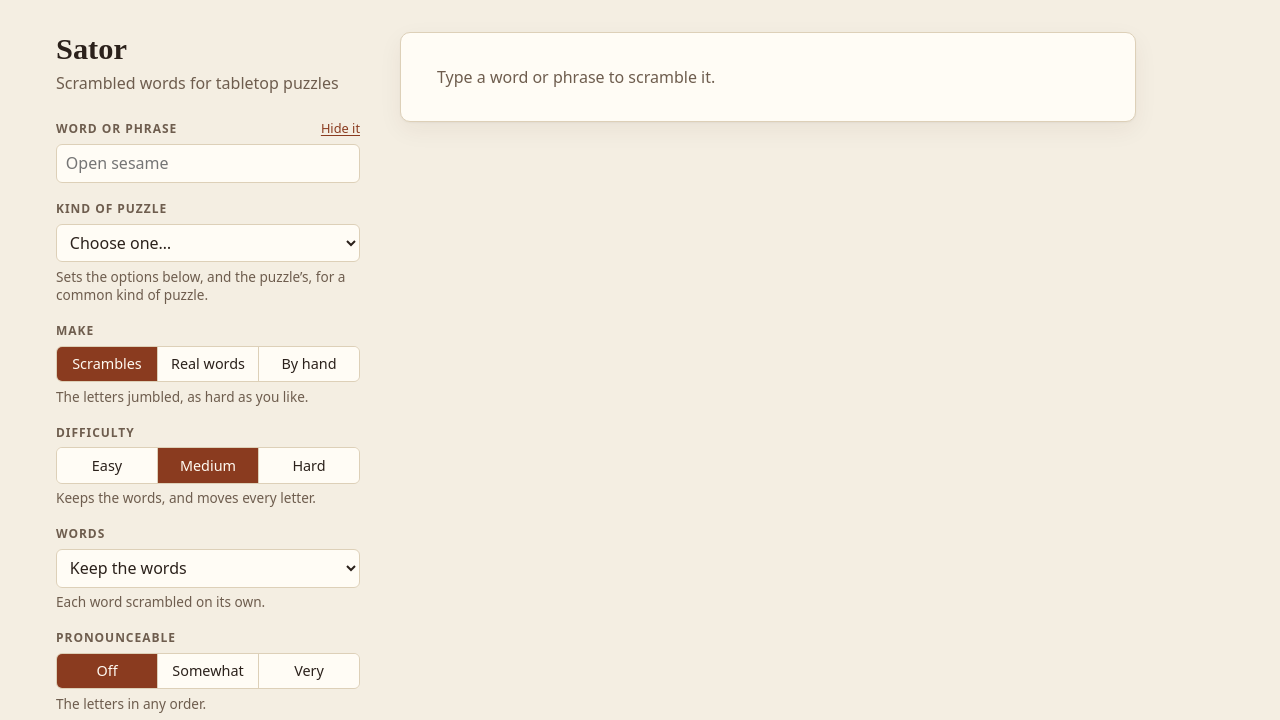
Test: App › says when not every letter can move, and shows the closest
Type "aab" into the field labelled "Word or phrase" at (208, 163), box [56,144,360,182]
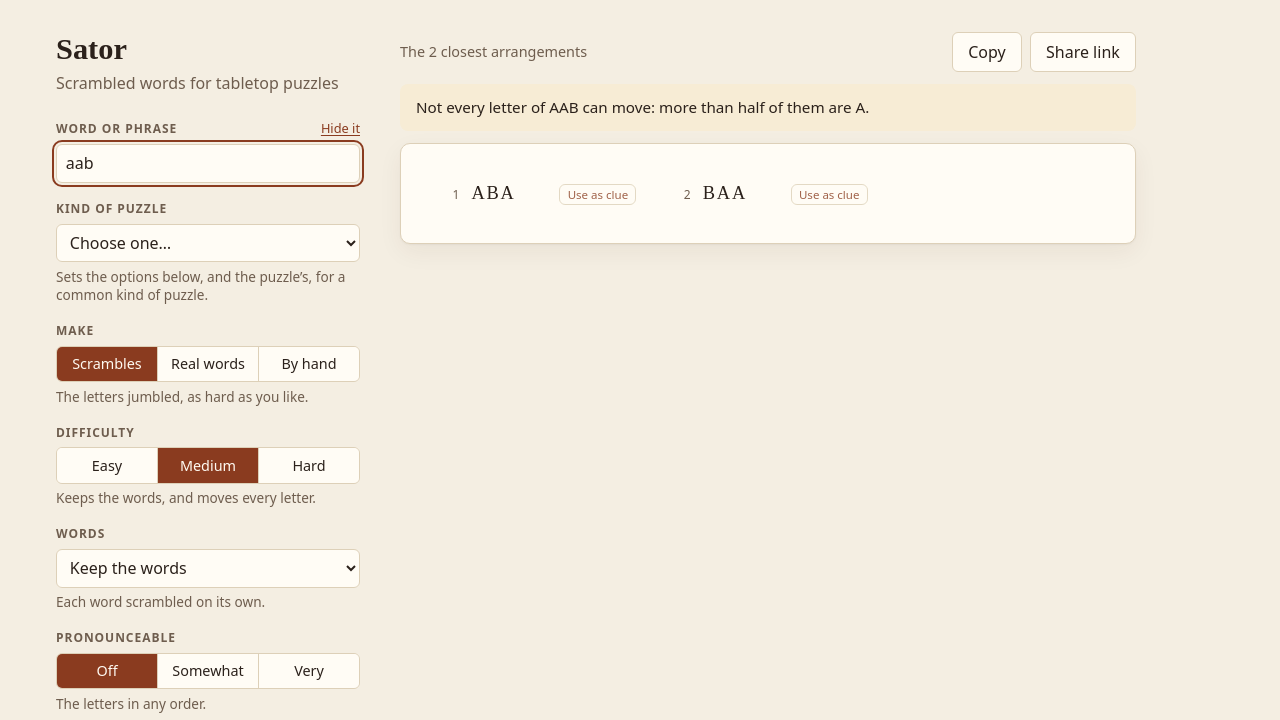
Result: the text "Not every letter of AAB can move: more than half of them are A." is shown at [400,84,1136,131]
Result: the text "The 2 closest arrangements" is shown at [400,41,587,63]
